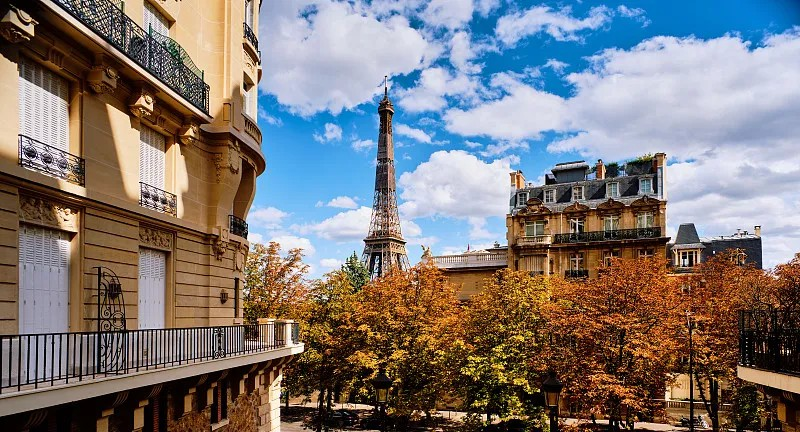Eiffel: (358, 74, 411, 285)
